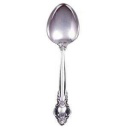Fork: (35, 3, 94, 127)
